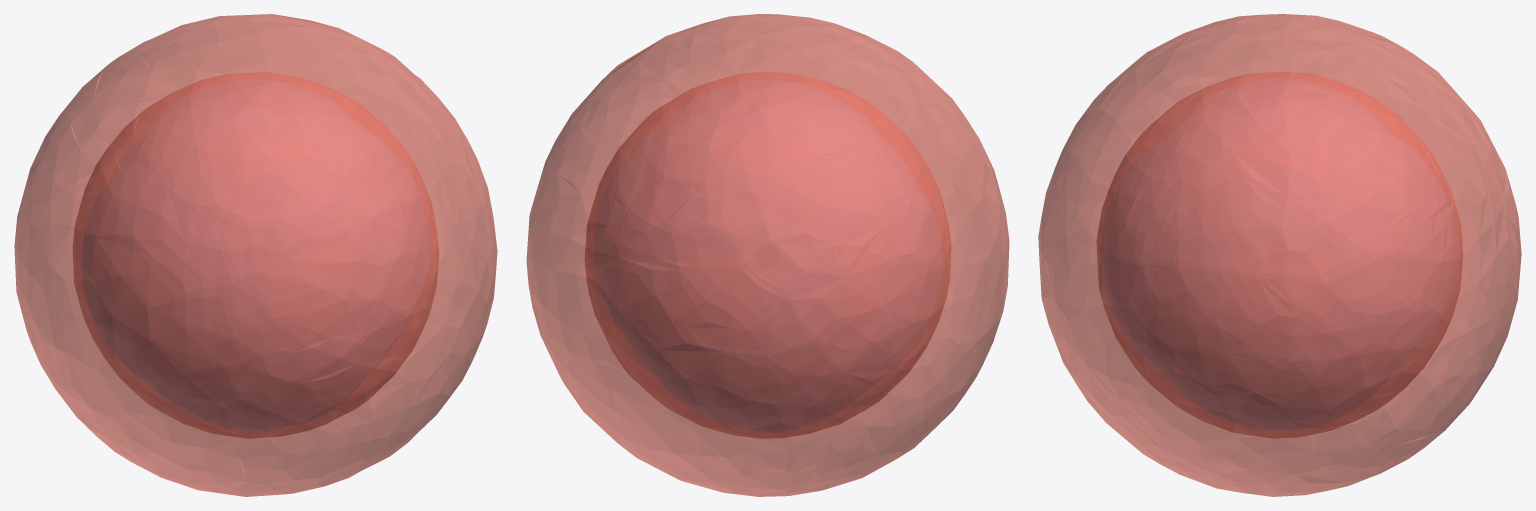
Rendered from orbital.glb.
3 views of the same model, side by side, from view 1: azimuth 30°, elevation 25°; view 2: azimuth 150°, elevation 25°; view 3: azimuth 270°, elevation 25° (orthographic).
Parts seen in each view (by area): view 1: K_n4_s_ml0_node, K_n3_s_ml0_node; view 2: K_n4_s_ml0_node, K_n3_s_ml0_node; view 3: K_n4_s_ml0_node, K_n3_s_ml0_node.
Boxes of the visible parts, left/top/right/bottom form: K_n4_s_ml0_node: left=14, top=14, right=497, bottom=496; K_n3_s_ml0_node: left=73, top=72, right=438, bottom=438; K_n4_s_ml0_node: left=526, top=14, right=1009, bottom=496; K_n3_s_ml0_node: left=585, top=72, right=950, bottom=438; K_n4_s_ml0_node: left=1038, top=14, right=1521, bottom=496; K_n3_s_ml0_node: left=1096, top=72, right=1462, bottom=438.
Size of the model in its own units: 2.06 by 2.07 by 2.06.
